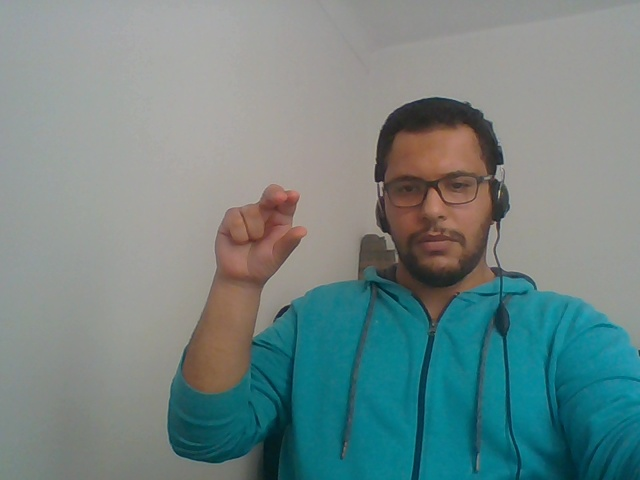no: (193, 174, 319, 314)
